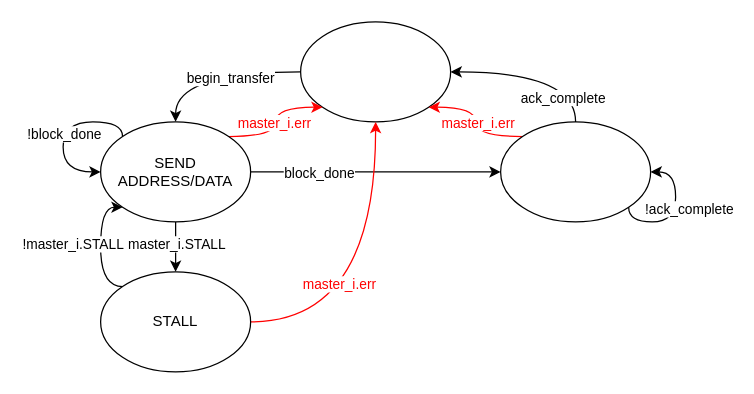
Some shapes in this 754 by 394 pixel diagram are drawn without their labels. Each missing label, with the centre of its shape:
IDLE: the point at 375,71
WAIT ACK/ERR: the point at 575,171
